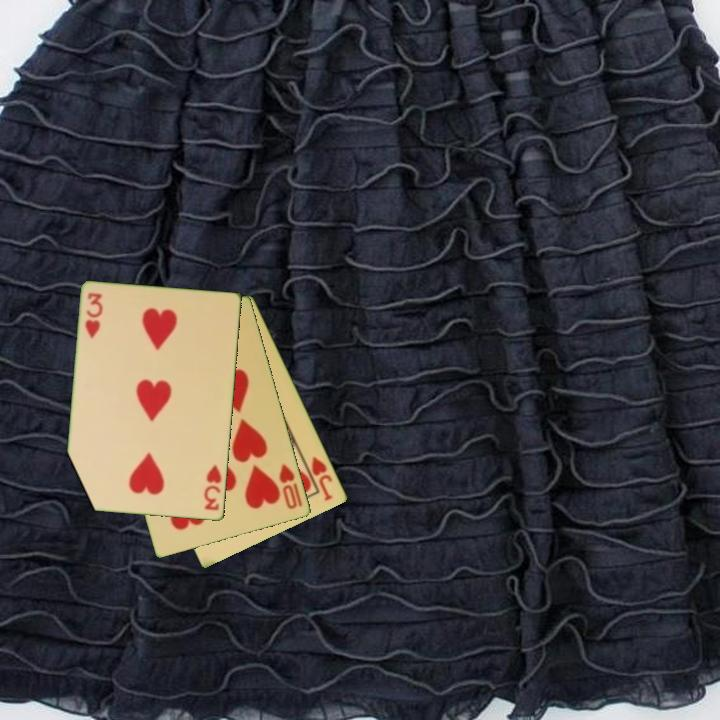10h: (276, 460, 300, 512)
3h: (201, 461, 225, 514), (82, 290, 105, 342)
Jh: (300, 453, 336, 504)
